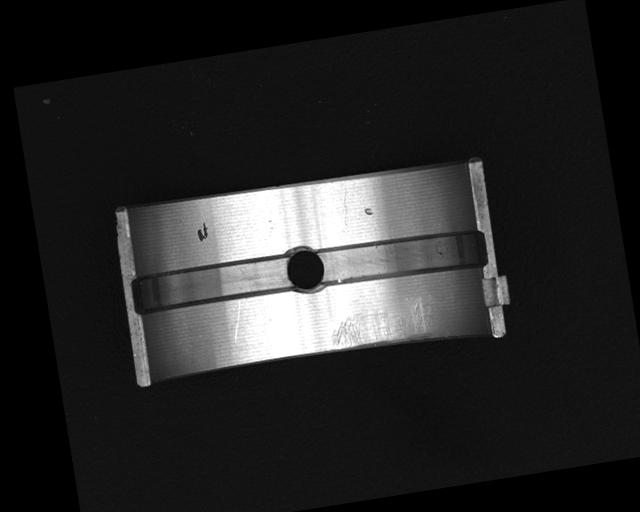blot: (195, 221, 210, 244)
bruise: (363, 206, 374, 216)
gap: (312, 222, 489, 293), (126, 251, 296, 318)
hole: (282, 243, 328, 300)
nick: (227, 299, 246, 344), (339, 191, 351, 226)
scratch: (325, 295, 437, 354)
